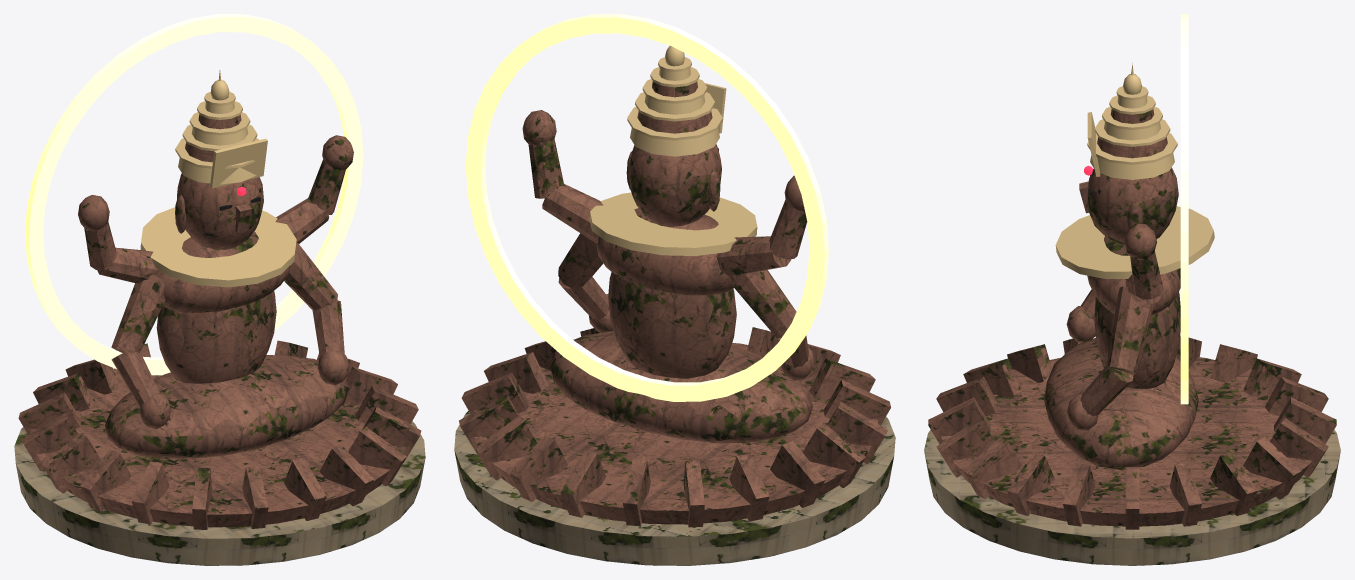
Rendered from DeityStatue.fbx.
The picture shows the model from 3 angles, left to right: view 1: azimuth 30°, elevation 25°; view 2: azimuth 150°, elevation 25°; view 3: azimuth 270°, elevation 25°; orthographic projection. The views are drawn at different scales.
Visible parts, largest first — view 1: DeityStatue_LOD0; view 2: DeityStatue_LOD0; view 3: DeityStatue_LOD0.
Boxes of the visible parts, <box> form: DeityStatue_LOD0: <box>14,14,425,565</box>; DeityStatue_LOD0: <box>454,14,895,565</box>; DeityStatue_LOD0: <box>924,14,1340,565</box>.
Size of what is drawn, in the model's own units: 15.2 by 18.02 by 15.2.
